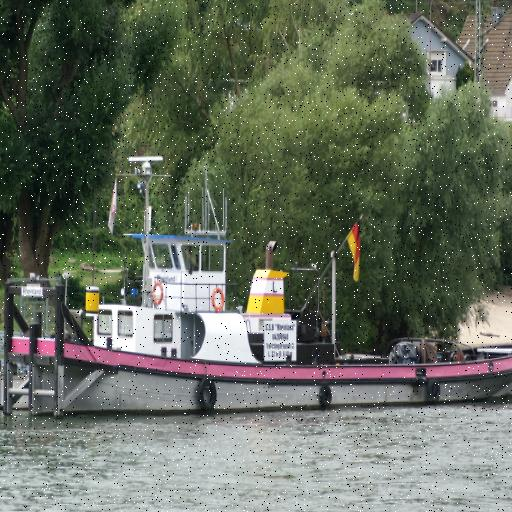tugboat: (1, 151, 512, 437)
